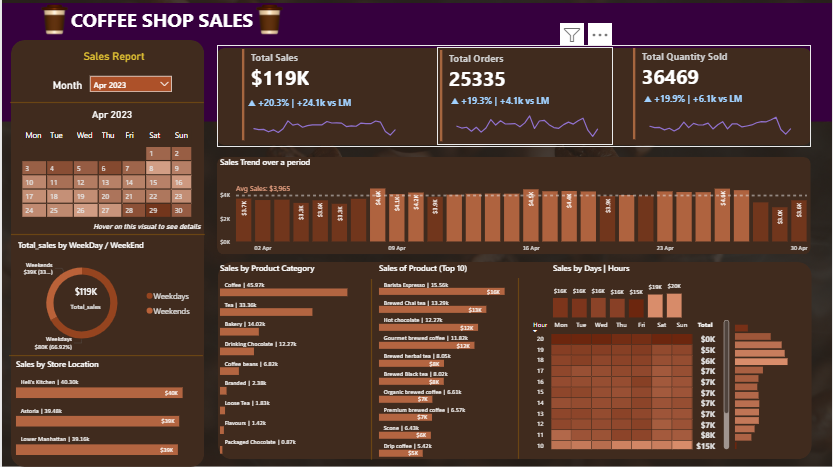

This screenshot's page, from the dashboard's own definition file:
{"tool":"powerbi","page":{"name":"Page 1","canvas":[1400,857],"ordinal":0},"visuals":[{"type":"shape","box":[0,36.7,1400,200.3],"z":0},{"type":"shape","box":[15.2,99.5,326.1,720.3],"z":1000,"group":"g2"},{"type":"shape","box":[362.7,113.1,1002.1,163.6],"z":1000,"group":"g5"},{"type":"shape","box":[362.7,296.6,1001.7,164.4],"z":1000},{"type":"shape","box":[363.8,474.1,1001.7,332.8],"z":2000},{"type":"textbox","box":[111.9,37.3,332.2,57.6],"z":3000},{"type":"group","id":"g1","title":"Group 1","box":[399.6,109.7,297.4,171],"z":3000,"group":"g5"},{"type":"group","id":"g2","title":"Group 2","box":[15.2,99.5,327.1,720.3],"z":4000},{"type":"cardVisual","fields":{"Data":["Transactions.Total Quantity Sold"]},"box":[1059.3,108,297.4,164.6],"z":4000,"group":"g4"},{"type":"cardVisual","fields":{"Data":["Transactions.Total_sales"]},"box":[399.6,109.7,297.4,164.6],"z":4000,"group":"g1"},{"type":"group","id":"g3","title":"Group 1","box":[733.7,111.4,297.1,163.6],"z":4000,"group":"g5"},{"type":"cardVisual","fields":{"Data":["Transactions.Total Orders"]},"box":[733.7,111.4,297.4,164.6],"z":4000,"group":"g3"},{"type":"group","id":"g4","title":"Group 1","box":[1059.3,108,297.1,163.6],"z":5000,"group":"g5"},{"type":"slicer","fields":{"Values":["Date Table.Month Year"]},"box":[143.1,156,148.5,42.2],"z":5000,"group":"g2"},{"type":"card","fields":{"Values":["Min(Date Table.Month Year)"]},"box":[127.1,205.1,118.6,39],"z":5000},{"type":"lineChart","fields":{"Y":["Transactions.Total Quantity Sold"],"Category":["Date Table.Date.Variation.Date Hierarchy.Year","Date Table.Date.Variation.Date Hierarchy.Quarter","Date Table.Date.Variation.Date Hierarchy.Month","Date Table.Date.Variation.Date Hierarchy.Day"]},"box":[1077.7,188.6,267.3,84],"z":5001,"group":"g4"},{"type":"lineChart","fields":{"Category":["Date Table.Date.Variation.Date Hierarchy.Year","Date Table.Date.Variation.Date Hierarchy.Quarter","Date Table.Date.Variation.Date Hierarchy.Month","Date Table.Date.Variation.Date Hierarchy.Day"],"Y":["Transactions.Total Orders"]},"box":[752.1,192,267.3,84],"z":5001,"group":"g3"},{"type":"lineChart","fields":{"Y":["Transactions.Total_sales"],"Category":["Date Table.Date.Variation.Date Hierarchy.Year","Date Table.Date.Variation.Date Hierarchy.Quarter","Date Table.Date.Variation.Date Hierarchy.Month","Date Table.Date.Variation.Date Hierarchy.Day"]},"box":[410.3,196.3,268.2,84.4],"z":5001,"group":"g1"},{"type":"pivotTable","fields":{"Rows":["Date Table.Week Number"],"Columns":["Date Table.Day Name"],"Values":["Min(Date Table.Day Number)"]},"box":[25.5,242.1,316.9,188],"z":5005,"group":"g2"},{"type":"card","fields":{"Values":["Transactions.Foot Note"]},"box":[127.1,401.7,235.6,27.1],"z":6000},{"type":"shape","box":[15.2,404.9,327.3,45.5],"z":7000},{"type":"shape","box":[13.5,182.2,327.3,45.5],"z":8000},{"type":"group","id":"g5","title":"Group 3","box":[362.7,108,1002.1,172.7],"z":9000},{"type":"donutChart","fields":{"Category":["Date Table.WeekDay / WeekEnd"],"Y":["Transactions.Total_sales"]},"box":[21.9,436.9,308.7,195.7],"z":10000},{"type":"card","fields":{"Values":["Transactions.Total_sales"]},"box":[66.1,501.7,150.8,66.1],"z":11000},{"type":"shape","box":[11.9,608.5,327.1,45.8],"z":12000},{"type":"clusteredBarChart","title":"Sales by Store Location","fields":{"Category":["Transactions.store_location"],"Y":["Transactions.Placeholder","Transactions.Total_sales"]},"box":[18.6,637.3,318.6,169.5],"z":13000},{"type":"columnChart","title":"Sales Trend over a period","fields":{"Category":["Transactions.transaction_date"],"Y":["Transactions.Total_sales"]},"box":[362.7,296.6,1001.7,169.5],"z":14000},{"type":"clusteredBarChart","title":"Sales by Product Category","fields":{"Y":["Transactions.Placeholder","Transactions.Total_sales"],"Category":["Transactions.product_category"]},"box":[362.7,475.7,253.1,327.3],"z":15000},{"type":"shape","box":[857,501,28.7,305.3],"z":16000},{"type":"clusteredBarChart","title":"Sales of Product (Top 10)","fields":{"Y":["Transactions.Placeholder","Transactions.Total_sales"],"Category":["Transactions.product_type"]},"box":[630.9,475.7,249.7,332.3],"z":17000},{"type":"shape","box":[615.8,502.7,15.2,305.3],"z":18000},{"type":"pivotTable","fields":{"Rows":["Transactions.Hour"],"Columns":["Date Table.Day Name"],"Values":["Transactions.Total_sales"]},"box":[885.7,566.8,345.8,227.7],"z":19000},{"type":"barChart","fields":{"Category":["Transactions.Hour"],"Y":["Transactions.Total_sales"]},"box":[1231.5,566.8,124.8,227.7],"z":20000},{"type":"columnChart","title":"Sales by Days | Hours","fields":{"Category":["Date Table.Day Name"],"Y":["Transactions.Total_sales"]},"box":[924.5,475.7,227.7,97.8],"z":21000},{"type":"card","fields":{"Values":["Transactions.Card"]},"box":[62.4,153.5,96.2,43.9],"z":22000},{"type":"card","fields":{"Values":["Transactions.cards"]},"box":[99.5,99.5,178.8,54],"z":23000},{"type":"image","box":[50.6,11.8,75.9,106.3],"z":24000},{"type":"image","box":[413.3,11.8,75.9,106.3],"z":25000}]}

Visuals, with their boxes on the page's 1400x857 design canvas (x1, y1, x2, y2). These are canvas units, not pixel positions in the 833x467 screenshot, which may show the page scaled, cropped or inside an application window:
shape: (left=0, top=37, right=1400, bottom=237)
shape: (left=15, top=100, right=341, bottom=820)
shape: (left=363, top=113, right=1365, bottom=277)
shape: (left=363, top=297, right=1364, bottom=461)
shape: (left=364, top=474, right=1366, bottom=807)
textbox: (left=112, top=37, right=444, bottom=95)
"Group 1" group: (left=400, top=110, right=697, bottom=281)
"Group 2" group: (left=15, top=100, right=342, bottom=820)
cardVisual - Transactions.Total Quantity Sold: (left=1059, top=108, right=1357, bottom=273)
cardVisual - Transactions.Total_sales: (left=400, top=110, right=697, bottom=274)
"Group 1" group: (left=734, top=111, right=1031, bottom=275)
cardVisual - Transactions.Total Orders: (left=734, top=111, right=1031, bottom=276)
"Group 1" group: (left=1059, top=108, right=1356, bottom=272)
slicer - Date Table.Month Year: (left=143, top=156, right=292, bottom=198)
card - Min(Date Table.Month Year): (left=127, top=205, right=246, bottom=244)
lineChart - Transactions.Total Quantity Sold x Date Table.Date.Variation.Date Hierarchy.Year: (left=1078, top=189, right=1345, bottom=273)
lineChart - Date Table.Date.Variation.Date Hierarchy.Year x Date Table.Date.Variation.Date Hierarchy.Quarter: (left=752, top=192, right=1019, bottom=276)
lineChart - Transactions.Total_sales x Date Table.Date.Variation.Date Hierarchy.Year: (left=410, top=196, right=678, bottom=281)
pivotTable - Date Table.Week Number x Date Table.Day Name: (left=26, top=242, right=342, bottom=430)
card - Transactions.Foot Note: (left=127, top=402, right=363, bottom=429)
shape: (left=15, top=405, right=342, bottom=450)
shape: (left=14, top=182, right=341, bottom=228)
"Group 3" group: (left=363, top=108, right=1365, bottom=281)
donutChart - Date Table.WeekDay / WeekEnd x Transactions.Total_sales: (left=22, top=437, right=331, bottom=633)
card - Transactions.Total_sales: (left=66, top=502, right=217, bottom=568)
shape: (left=12, top=608, right=339, bottom=654)
"Sales by Store Location" clusteredBarChart: (left=19, top=637, right=337, bottom=807)
"Sales Trend over a period" columnChart: (left=363, top=297, right=1364, bottom=466)
"Sales by Product Category" clusteredBarChart: (left=363, top=476, right=616, bottom=803)
shape: (left=857, top=501, right=886, bottom=806)
"Sales of Product (Top 10)" clusteredBarChart: (left=631, top=476, right=881, bottom=808)
shape: (left=616, top=503, right=631, bottom=808)
pivotTable - Transactions.Hour x Date Table.Day Name: (left=886, top=567, right=1232, bottom=794)
barChart - Transactions.Hour x Transactions.Total_sales: (left=1232, top=567, right=1356, bottom=794)
"Sales by Days | Hours" columnChart: (left=924, top=476, right=1152, bottom=574)
card - Transactions.Card: (left=62, top=154, right=159, bottom=197)
card - Transactions.cards: (left=100, top=100, right=278, bottom=154)
image: (left=51, top=12, right=126, bottom=118)
image: (left=413, top=12, right=489, bottom=118)
